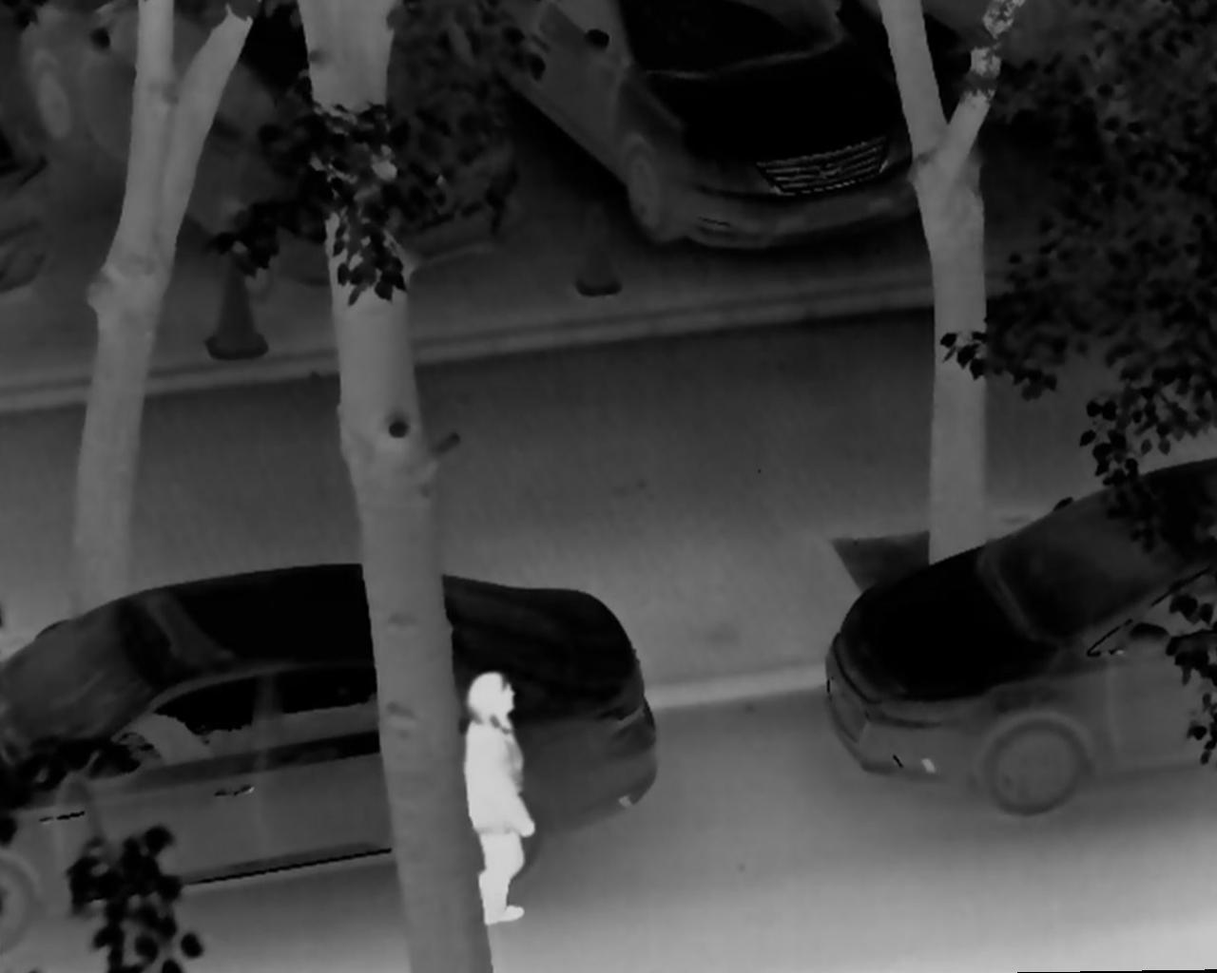person: (453, 668, 534, 925)
